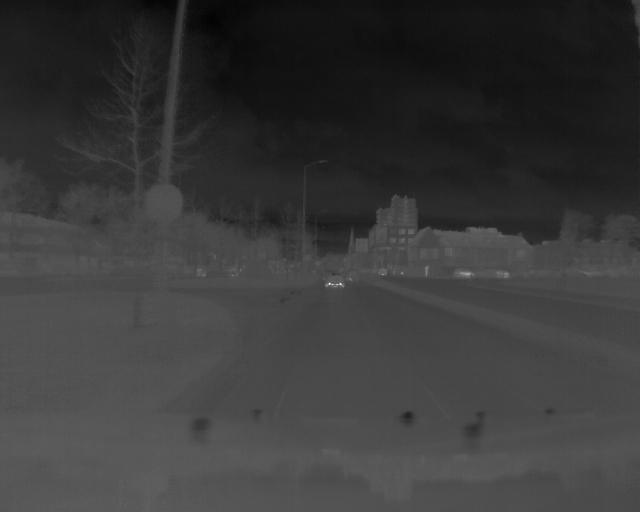car: (322, 275, 349, 289), (453, 267, 478, 276)
